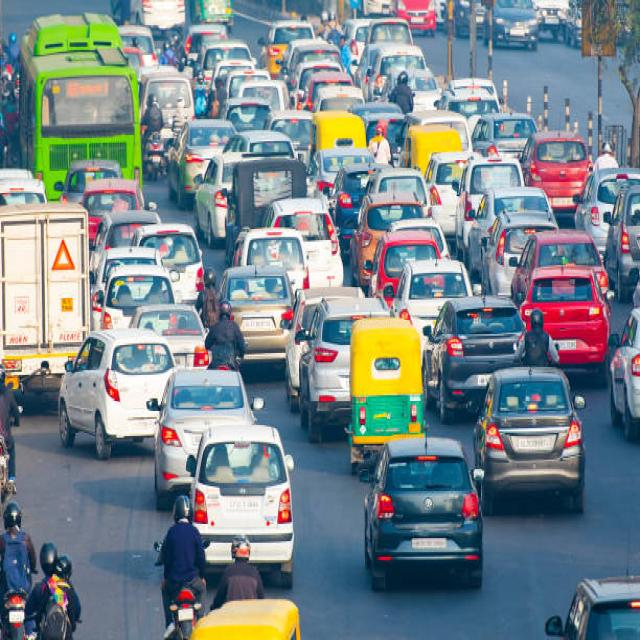Vehicles: (11, 0, 172, 230), (462, 355, 599, 545), (32, 330, 183, 479), (357, 423, 476, 612), (178, 418, 302, 588), (0, 194, 93, 409), (336, 303, 449, 463), (290, 289, 407, 436), (418, 285, 551, 412), (144, 371, 258, 492), (232, 152, 345, 269), (524, 255, 620, 386), (218, 258, 310, 376), (447, 134, 528, 266), (186, 139, 283, 240), (136, 215, 217, 320), (575, 152, 640, 281), (518, 124, 600, 218), (140, 65, 207, 165), (604, 300, 640, 469), (258, 18, 333, 86), (146, 579, 226, 640), (345, 8, 416, 76), (427, 152, 485, 225), (309, 105, 369, 173), (402, 124, 458, 175), (0, 589, 41, 640)
